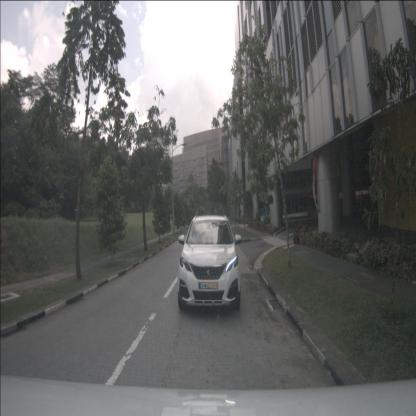vehicle-car: (177, 213, 241, 312)
